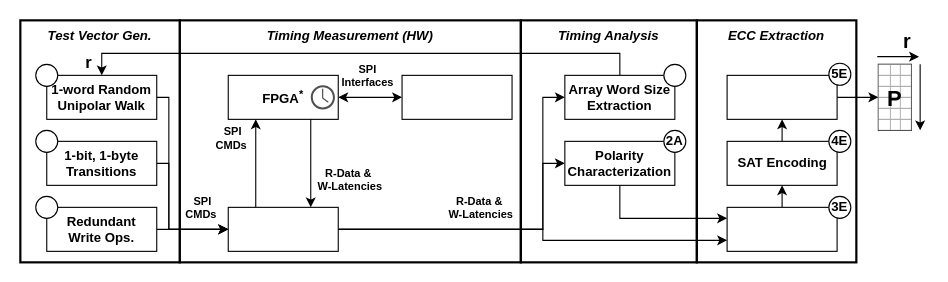
This 948x282 diagram has some shape labels left out. The centre of each missing label's shape, as x and y in pixels:
"1A" goes at pixel 674 74.
"1T" goes at pixel 46 206.
"2T" goes at pixel 46 140.
"3T" goes at pixel 46 74.
"Network" goes at pixel 282 228.
"Polarity Clustering" goes at pixel 781 228.
"ReRAM Chips" goes at pixel 456 96.
"Solver" goes at pixel 781 96.
